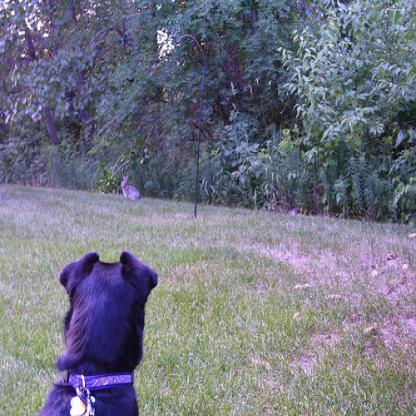dog: (37, 249, 159, 415)
